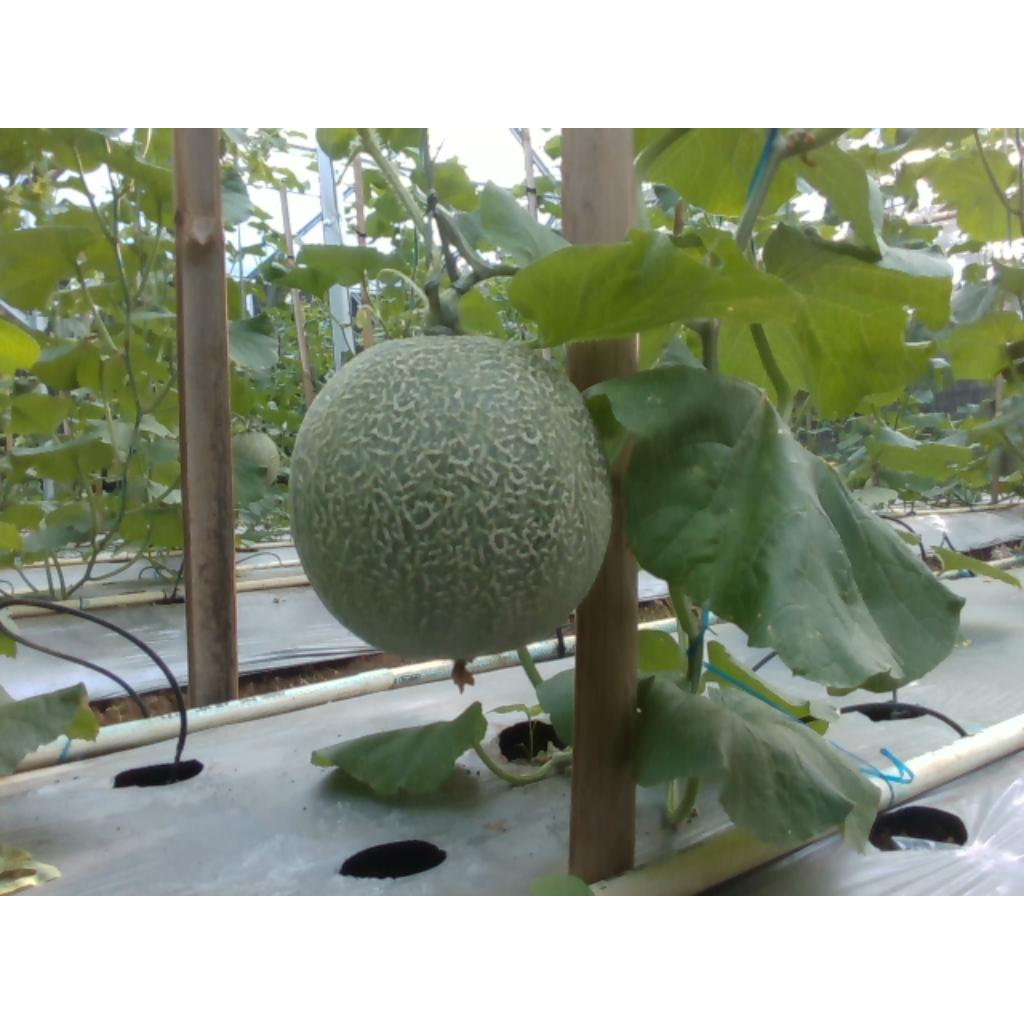melon: (291, 336, 611, 658)
